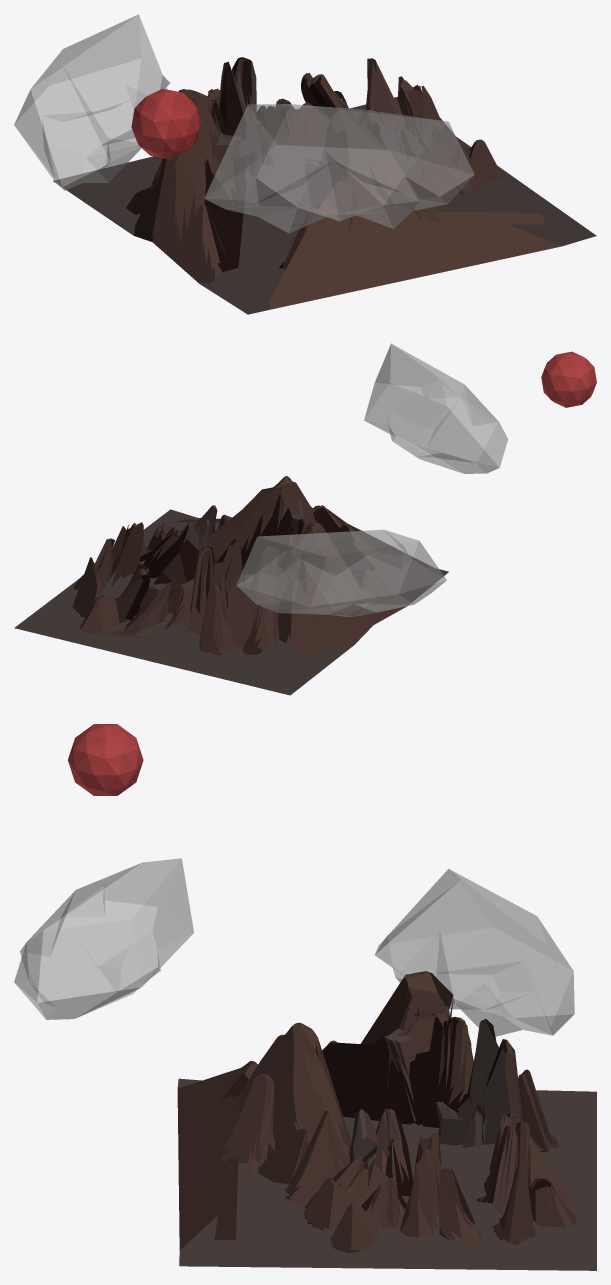
Rendered from mount002.obj.
3 views of the same model, one above another, from view 1: azimuth 30°, elevation 25°; view 2: azimuth 150°, elevation 25°; view 3: azimuth 270°, elevation 25° (orthographic). The views are drawn at different scales.
Visible parts, largest first — view 1: Landscape.004, Icosphere.001, Icosphere.002, Icosphere; view 2: Landscape.004, Icosphere.002, Icosphere.001, Icosphere; view 3: Landscape.004, Icosphere.002, Icosphere.001, Icosphere.
Boxes of the visible parts, left/top/right/bottom form: Landscape.004: left=53, top=57, right=596, bottom=314; Icosphere.001: left=204, top=104, right=474, bottom=233; Icosphere.002: left=14, top=14, right=169, bottom=190; Icosphere: left=131, top=88, right=201, bottom=159; Landscape.004: left=14, top=476, right=448, bottom=695; Icosphere.002: left=236, top=529, right=446, bottom=616; Icosphere.001: left=364, top=343, right=507, bottom=473; Icosphere: left=541, top=351, right=596, bottom=407; Landscape.004: left=177, top=971, right=596, bottom=1270; Icosphere.002: left=375, top=869, right=574, bottom=1036; Icosphere.001: left=14, top=858, right=193, bottom=1019; Icosphere: left=68, top=724, right=143, bottom=795.
Bounding box in the file's own units: 2.88 × 1.67 × 2.77.
